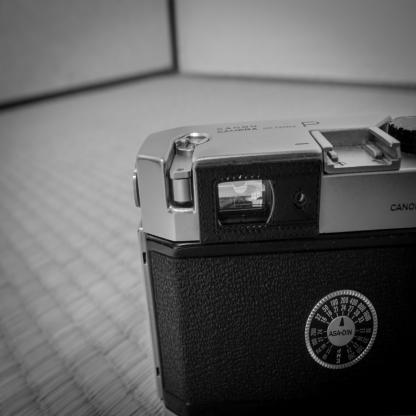Camera: (120, 112, 416, 412)
